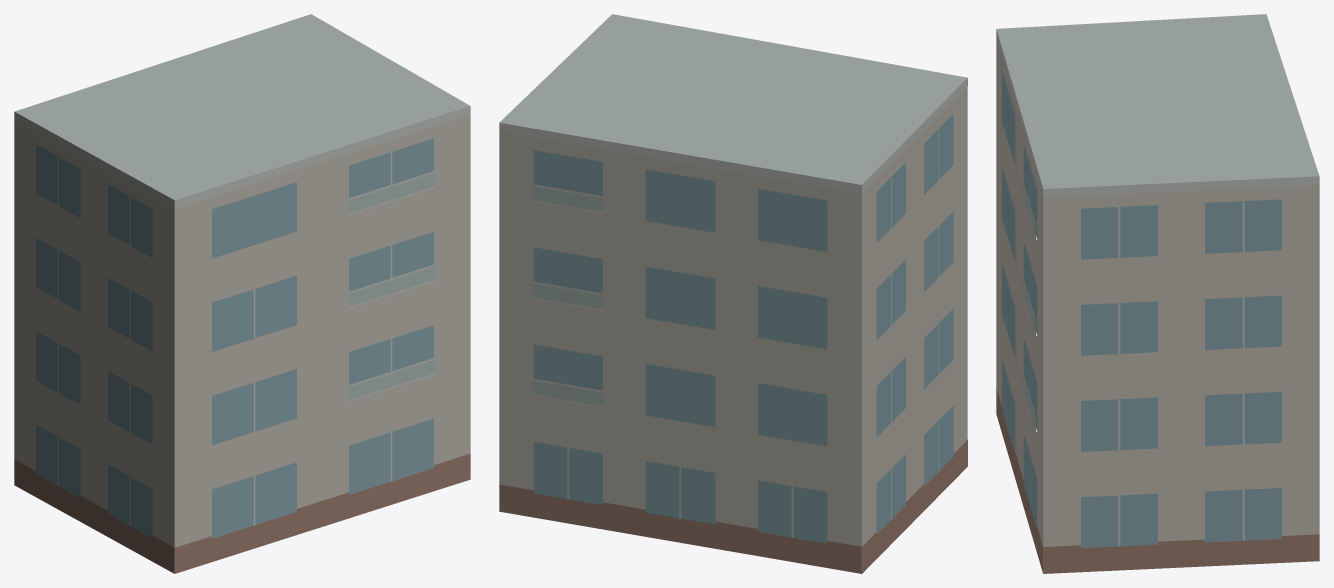
The model's file is survey-upis-32574213.glb.
The picture shows the model from 3 angles, left to right: view 1: azimuth 30°, elevation 25°; view 2: azimuth 150°, elevation 25°; view 3: azimuth 270°, elevation 25°; orthographic projection. The views are drawn at different scales.
Visible parts, largest first — view 1: survey-upis-32574213.tmp; view 2: survey-upis-32574213.tmp; view 3: survey-upis-32574213.tmp.
Part boxes in pixels (x1=…): survey-upis-32574213.tmp: x1=14, y1=14, x2=470, y2=573; survey-upis-32574213.tmp: x1=499, y1=14, x2=967, y2=573; survey-upis-32574213.tmp: x1=996, y1=14, x2=1319, y2=573.
Bounding box in the file's own units: 10.39 × 10.65 × 8.12.
